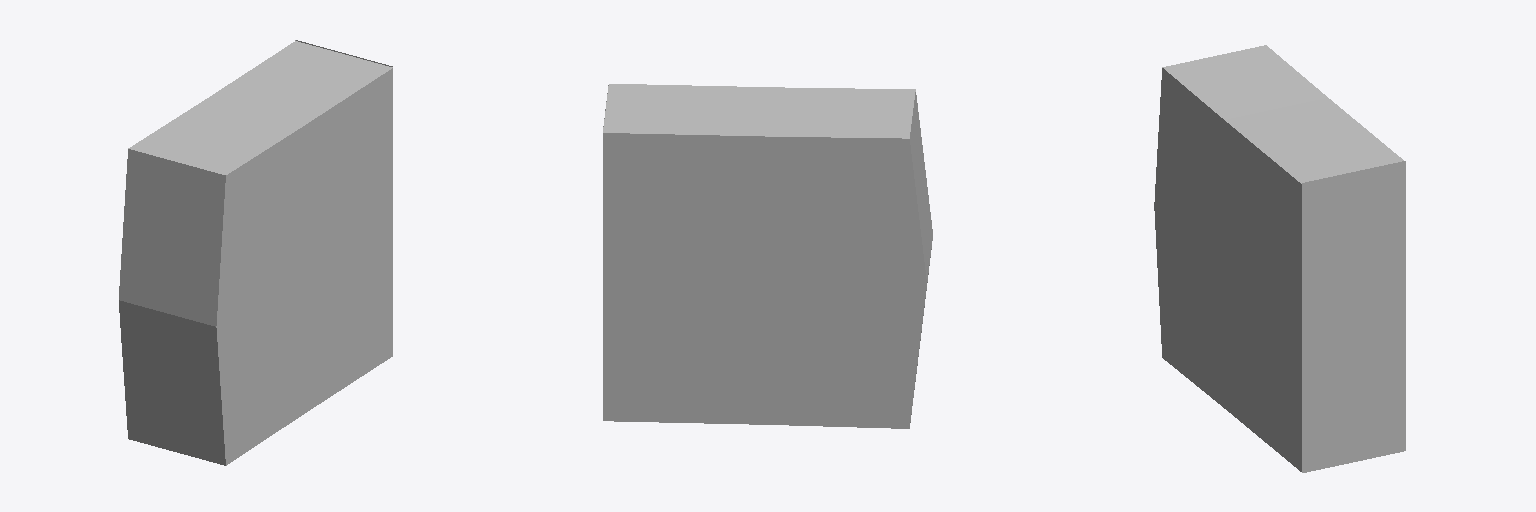
Rendered from AltoSaxKeyUp9.obj.
3 renders of one model, left to right at view 1: azimuth 30°, elevation 25°; view 2: azimuth 150°, elevation 25°; view 3: azimuth 270°, elevation 25°, orthographic.
Parts seen in each view (by area): view 1: Converted object 0(m1); view 2: Converted object 0(m1); view 3: Converted object 0(m1).
Boxes of the visible parts, box(x1,y1,x2,y2) form: Converted object 0(m1): box(119, 40, 392, 465); Converted object 0(m1): box(603, 84, 932, 428); Converted object 0(m1): box(1154, 45, 1405, 472).
Bounding box in the file's own units: 0.5028 × 0.4705 × 0.3692.